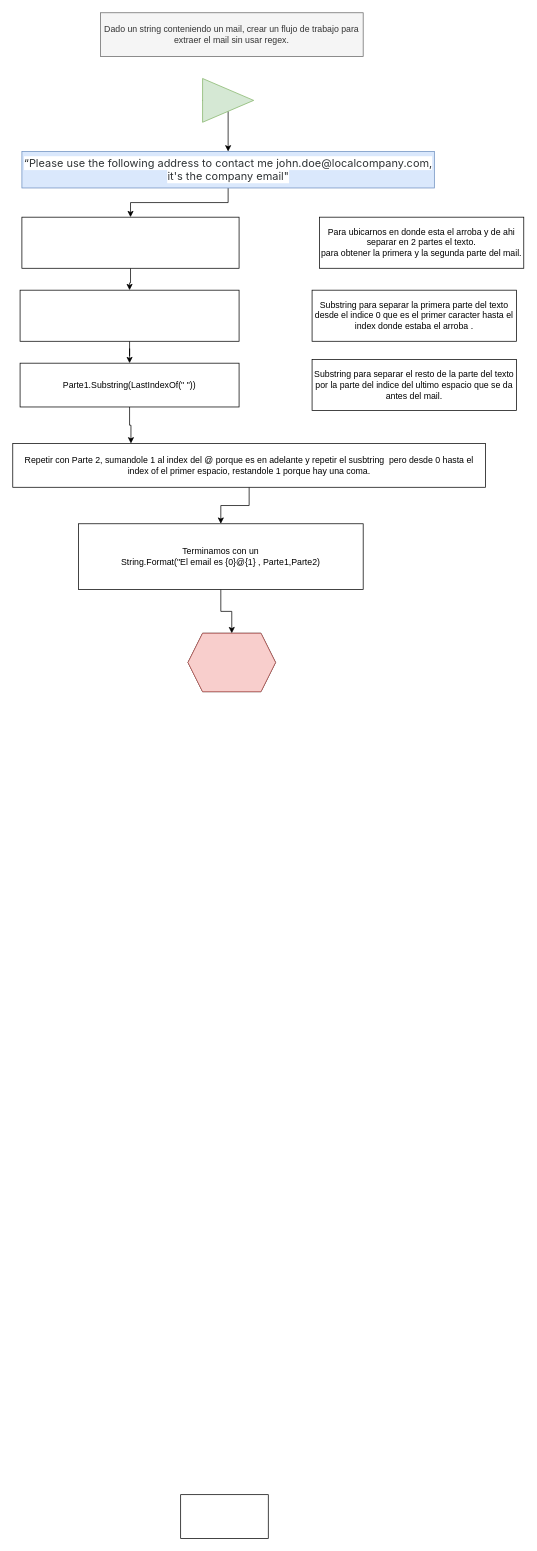
The diagram is 537 pixels wide and 1551 high, and some of its shapes have lost their labels. The shapes that lost their labels are listed below. From the top down, each one's centre as x and y in pixels, then its label:
[228,100]: Inicio
[130,242]: text.IndexOf("@")
[129,315]: message.Substring(0, aIndex)
[231,662]: End
